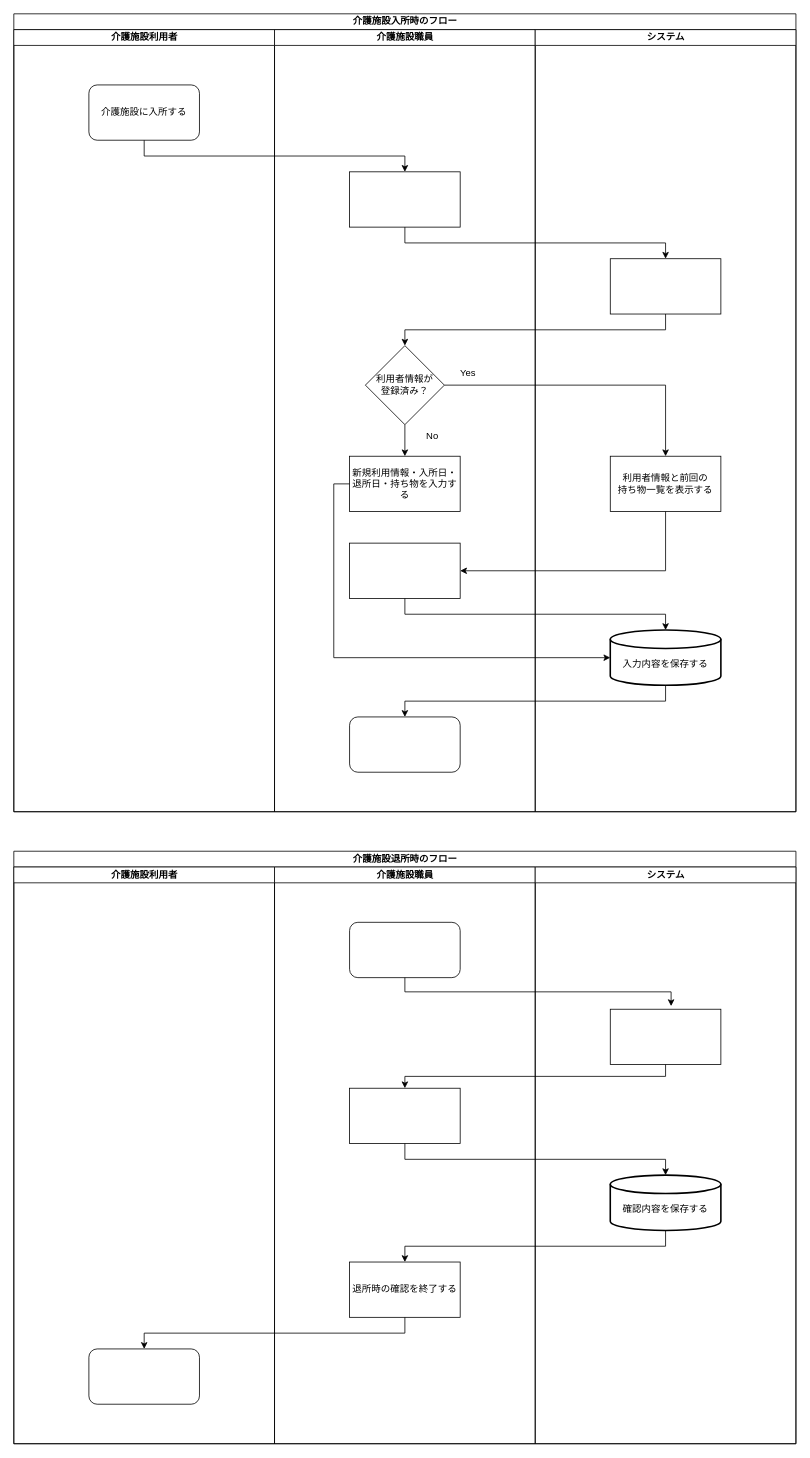
The diagram is 810 pixels wide and 1458 high, and some of its shapes have lost their labels. Each missing label, with the centre of its shape:
介護施設を退所する: point (143, 1376)
入所日・退所日と 持ち物を 確認・入力する: point (404, 570)
入所時の確認を終了する: point (404, 744)
利用者 を検索する: point (404, 199)
利用者情報と入所時の 持ち物一覧を表示する: point (665, 1036)
持ち物確認を行う: point (404, 1115)
検索結果を表示する: point (665, 286)
退所時に利用者を 検索する: point (404, 950)
